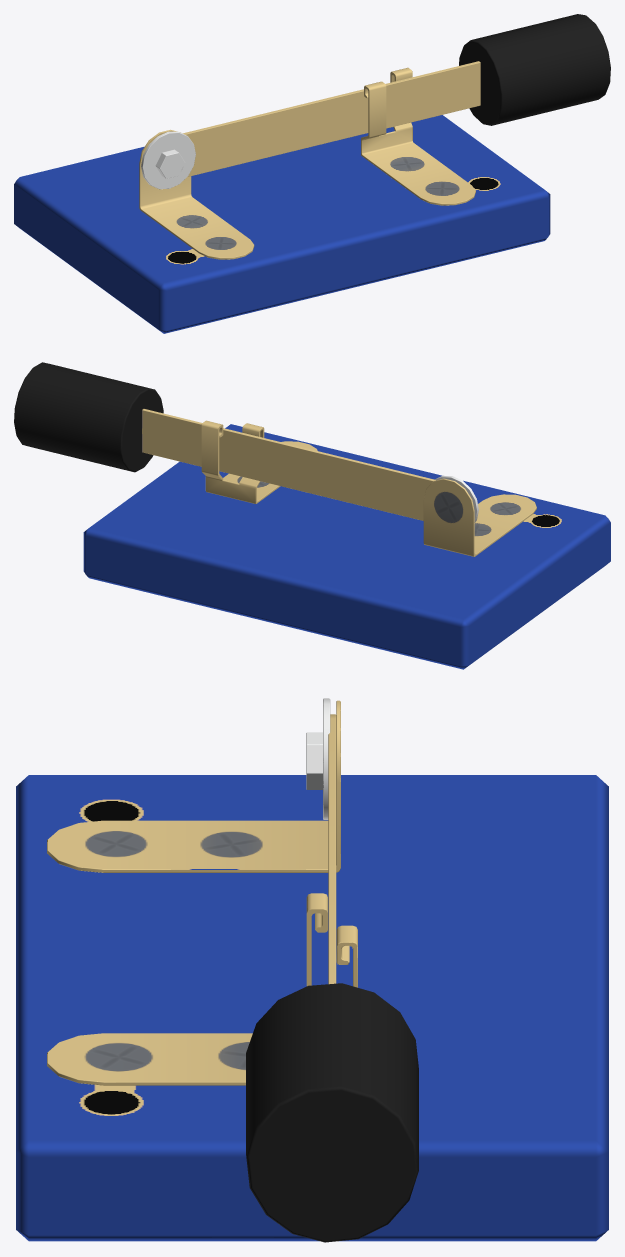
The model's file is Switch.fbx.
3 views of the same model, one above another, from view 1: azimuth 30°, elevation 25°; view 2: azimuth 150°, elevation 25°; view 3: azimuth 270°, elevation 25° (orthographic). The views are drawn at different scales.
Parts seen in each view (by area): view 1: Switch, Knob; view 2: Switch, Knob; view 3: Switch, Knob.
Boxes of the visible parts, bbox=[...] form: Switch: bbox=[14, 67, 550, 333]; Knob: bbox=[182, 14, 610, 176]; Switch: bbox=[83, 420, 610, 669]; Knob: bbox=[14, 362, 435, 520]; Switch: bbox=[16, 698, 608, 1241]; Knob: bbox=[246, 714, 418, 1242].
Bounding box in the file's own units: 7.79 × 2.02 × 4.
